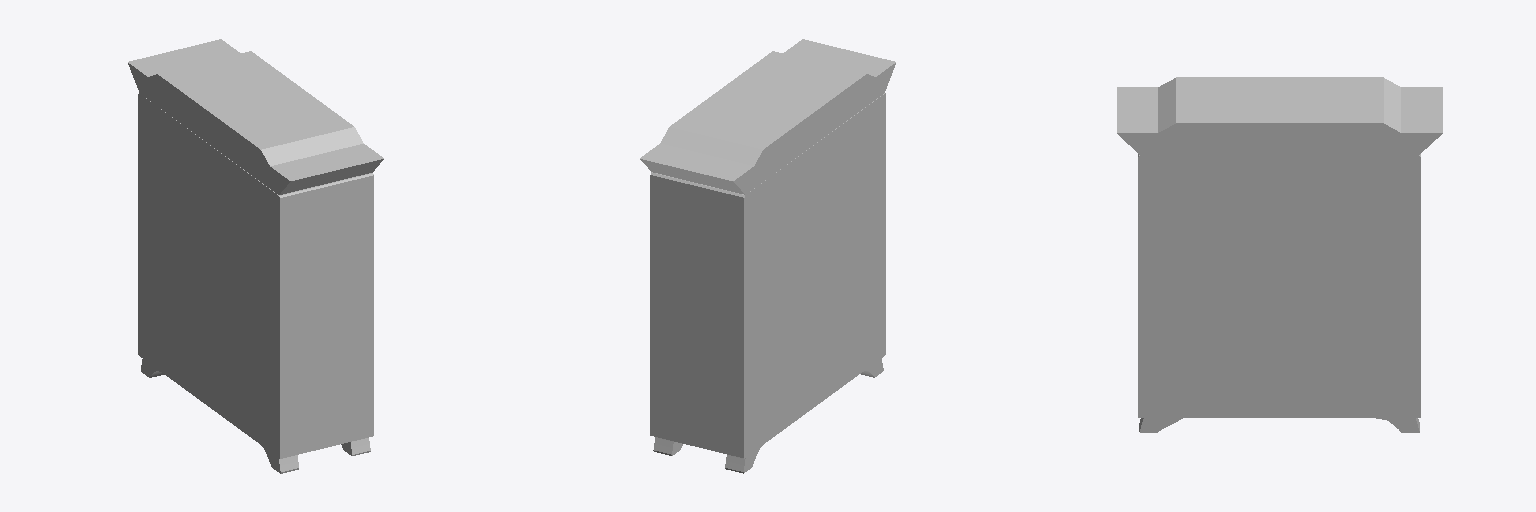
Rendered from Closet.obj.
The picture shows the model from 3 angles: view 1: azimuth 30°, elevation 25°; view 2: azimuth 150°, elevation 25°; view 3: azimuth 270°, elevation 25°; orthographic projection.
Visible parts, largest first — view 1: Cube; view 2: Cube; view 3: Cube.
Boxes of the visible parts, <box> form: Cube: <box>128,39,383,473</box>; Cube: <box>640,39,895,473</box>; Cube: <box>1117,77,1442,432</box>.
Size of the model in its own units: 1.57 by 4.97 by 4.73.